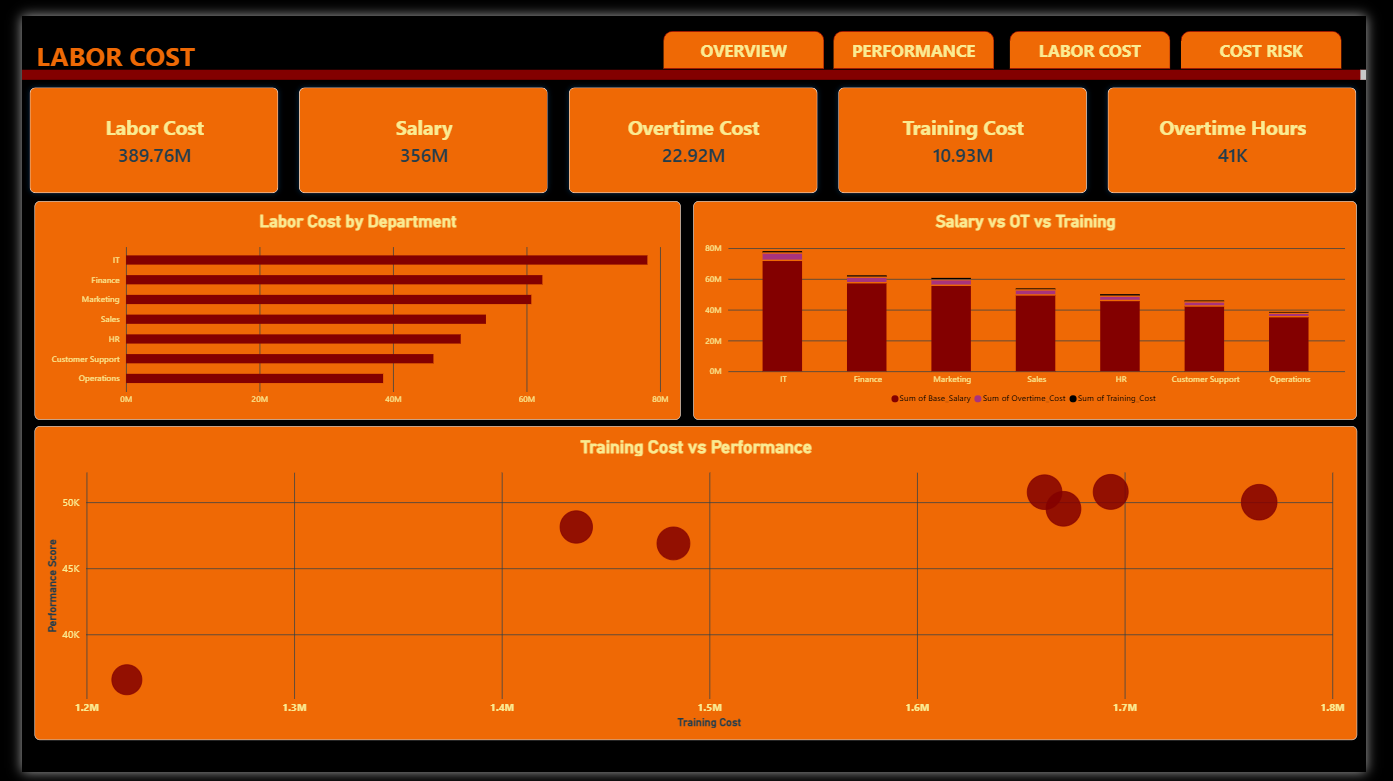

What the dashboard file says about the page in this screenshot:
{"tool":"powerbi","page":{"name":"LABOR COST","canvas":[1920,1080],"ordinal":2},"visuals":[{"type":"textbox","box":[0,21.7,1920.1,81.4],"z":0},{"type":"textbox","box":[0,76,1920.1,14.5],"z":1000},{"type":"actionButton","box":[915.7,21.7,229.8,54.3],"z":2000},{"type":"actionButton","box":[1158.2,21.7,229.8,54.3],"z":3000},{"type":"actionButton","box":[1411.5,21.7,229.8,54.3],"z":4000},{"type":"actionButton","box":[1655.8,21.7,229.8,54.3],"z":5000},{"type":"cardVisual","fields":{"Data":["Sum(workforce_analytics workforce_analysis_view.Total_Labor_Cost)","Sum(workforce_analytics workforce_analysis_view.Base_Salary)","Sum(workforce_analytics workforce_analysis_view.Overtime_Cost)","Sum(workforce_analytics workforce_analysis_view.Training_Cost)","Sum(workforce_analytics workforce_analysis_view.Overtime_Hours)"]},"box":[0,90.5,1920.1,173.7],"z":6000},{"type":"barChart","title":"Labor Cost by Department","fields":{"Category":["workforce_analytics workforce_analysis_view.Department"],"Y":["Sum(workforce_analytics workforce_analysis_view.Total_Labor_Cost)"]},"box":[14.5,264.2,946.5,372.8],"z":7000},{"type":"columnChart","title":"Salary vs Overtime vs Training","fields":{"Category":["workforce_analytics workforce_analysis_view.Department"],"Y":["Sum(workforce_analytics workforce_analysis_view.Base_Salary)","Sum(workforce_analytics workforce_analysis_view.Overtime_Cost)","Sum(workforce_analytics workforce_analysis_view.Training_Cost)"]},"box":[986.3,264.2,921.1,372.8],"z":8000},{"type":"scatterChart","title":"Training Cost vs Performance","fields":{"Series":["workforce_analytics workforce_analysis_view.Department"],"Size":["Sum(workforce_analytics workforce_analysis_view.Training_Hours)"],"X":["Sum(workforce_analytics workforce_analysis_view.Training_Cost)"],"Y":["Sum(workforce_analytics workforce_analysis_view.Performance_Score)"]},"box":[14.5,647.9,1892.9,414.4],"z":9000}]}

Visuals, with their boxes in screenshot pixels (x1, y1, x2, y2), scaled from the page's 1920x1080 canvas onto the 1393x781 screenshot:
textbox: l=0, t=16, r=1392, b=75
textbox: l=0, t=55, r=1392, b=65
actionButton: l=664, t=16, r=831, b=55
actionButton: l=840, t=16, r=1007, b=55
actionButton: l=1024, t=16, r=1191, b=55
actionButton: l=1201, t=16, r=1368, b=55
cardVisual - Sum(workforce_analytics workforce_analysis_view.Total_Labor_Cost) x Sum(workforce_analytics workforce_analysis_view.Base_Salary): l=0, t=65, r=1392, b=191
"Labor Cost by Department" barChart: l=11, t=191, r=697, b=461
"Salary vs Overtime vs Training" columnChart: l=716, t=191, r=1384, b=461
"Training Cost vs Performance" scatterChart: l=11, t=469, r=1384, b=768
